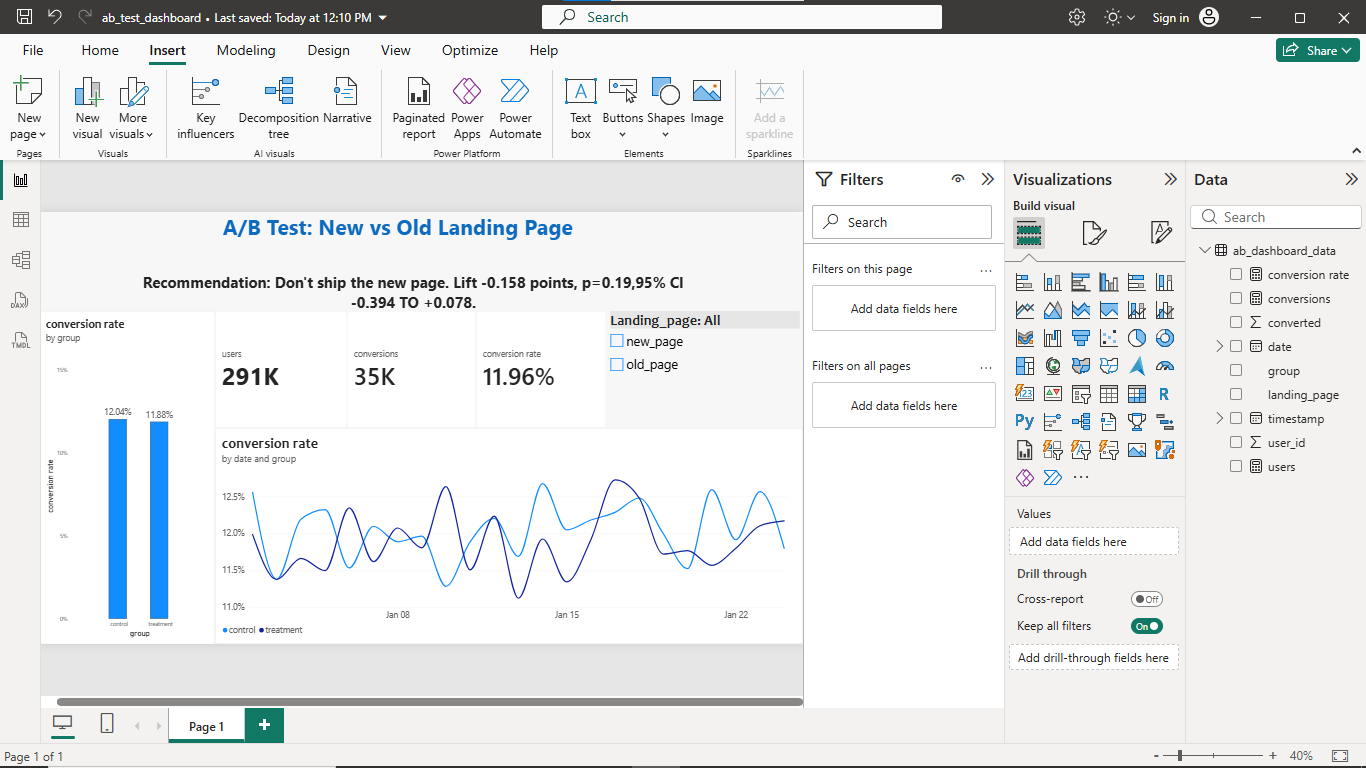

Layout of this report page (visuals, bound fields, positions):
{"tool":"powerbi","page":{"name":"Page 1","canvas":[1920,1080],"ordinal":0},"visuals":[{"type":"cardVisual","fields":{"Data":["ab_dashboard_data.users"]},"box":[450,246.7,330,292.5],"z":0},{"type":"cardVisual","fields":{"Data":["ab_dashboard_data.conversions"]},"box":[780,246.7,322.5,292.5],"z":1000},{"type":"cardVisual","fields":{"Data":["ab_dashboard_data.conversion rate"]},"box":[1103.3,246.7,325,292.5],"z":2000},{"type":"clusteredColumnChart","fields":{"Category":["ab_dashboard_data.group"],"Y":["ab_dashboard_data.conversion rate"]},"box":[10,246.7,440,833.3],"z":3000},{"type":"lineChart","fields":{"Category":["ab_dashboard_data.date"],"Series":["ab_dashboard_data.group"],"Y":["ab_dashboard_data.conversion rate"]},"box":[450,540,1470,540],"z":4000},{"type":"slicer","fields":{"Values":["ab_dashboard_data.landing_page"]},"box":[1430,246.7,490,293.3],"z":5000},{"type":"textbox","box":[65,0,1685,130],"z":6000},{"type":"textbox","box":[65,930,1622,150],"z":8000},{"type":"textbox","box":[65,930,1622,150],"z":9000},{"type":"textbox","box":[226.7,150,1436.7,146.7],"z":10000}]}

Visuals, with their boxes on the page's 1920x1080 design canvas (x1, y1, x2, y2). These are canvas units, not pixel positions in the 1366x768 screenshot, which may show the page scaled, cropped or inside an application window:
cardVisual - ab_dashboard_data.users: x1=450 y1=247 x2=780 y2=539
cardVisual - ab_dashboard_data.conversions: x1=780 y1=247 x2=1102 y2=539
cardVisual - ab_dashboard_data.conversion rate: x1=1103 y1=247 x2=1428 y2=539
clusteredColumnChart - ab_dashboard_data.group x ab_dashboard_data.conversion rate: x1=10 y1=247 x2=450 y2=1080
lineChart - ab_dashboard_data.date x ab_dashboard_data.group: x1=450 y1=540 x2=1920 y2=1080
slicer - ab_dashboard_data.landing_page: x1=1430 y1=247 x2=1920 y2=540
textbox: x1=65 y1=0 x2=1750 y2=130
textbox: x1=65 y1=930 x2=1687 y2=1080
textbox: x1=65 y1=930 x2=1687 y2=1080
textbox: x1=227 y1=150 x2=1663 y2=297
